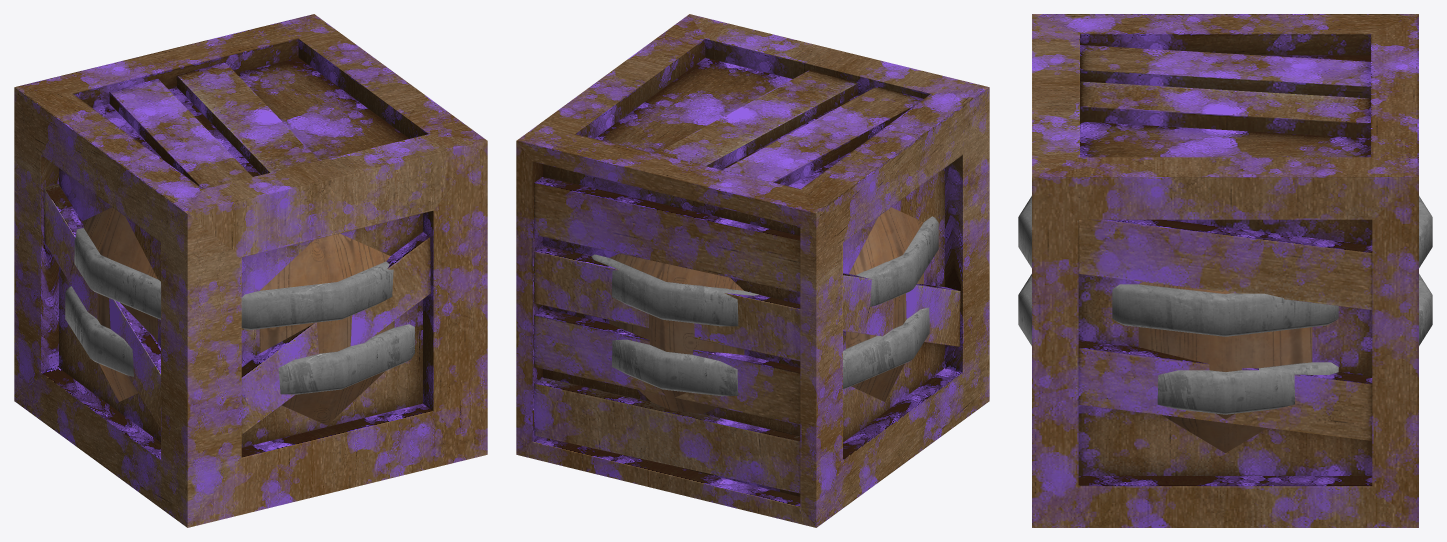
The model's file is barril.glb.
3 views of the same model, side by side, from view 1: azimuth 30°, elevation 25°; view 2: azimuth 150°, elevation 25°; view 3: azimuth 270°, elevation 25° (orthographic). The views are drawn at different scales.
Parts seen in each view (by area): view 1: Cube, Cylinder.001, Cylinder, Cube.001, Cube.003, Cube.004, Cube.002; view 2: Cube, Cylinder.001, Cube.011, Cube.012, Cube.009, Cube.010, Cylinder, Cube.003, Cube.004, Cube.002; view 3: Cube, Cube.006, Cylinder.001, Cube.007, Cube.003, Cube.004, Cylinder.
Boxes of the visible parts, box(x1,y1,x2,y2) form: Cube: box(14, 14, 487, 527); Cylinder.001: box(65, 228, 414, 394); Cylinder: box(82, 207, 394, 425); Cube.001: box(241, 232, 430, 434); Cube.003: box(176, 62, 319, 174); Cube.004: box(109, 78, 252, 188); Cube.002: box(43, 184, 160, 428); Cube: box(516, 14, 989, 527); Cylinder.001: box(591, 216, 938, 396); Cube.011: box(534, 177, 800, 292); Cube.012: box(534, 377, 800, 493); Cube.009: box(534, 309, 800, 424); Cube.010: box(534, 245, 800, 361); Cylinder: box(609, 207, 923, 413); Cube.003: box(656, 70, 858, 169); Cube.004: box(723, 86, 923, 185); Cube.002: box(843, 273, 960, 346); Cube: box(1032, 14, 1418, 527); Cube.006: box(1078, 219, 1372, 309); Cylinder.001: box(1018, 196, 1432, 414); Cube.007: box(1078, 340, 1372, 440); Cube.003: box(1080, 81, 1370, 138); Cube.004: box(1080, 45, 1370, 98); Cylinder: box(1138, 282, 1312, 452).
Size of the model in its own units: 2.14 by 2 by 2.14.
Materials: 2 (2 with a texture image).
